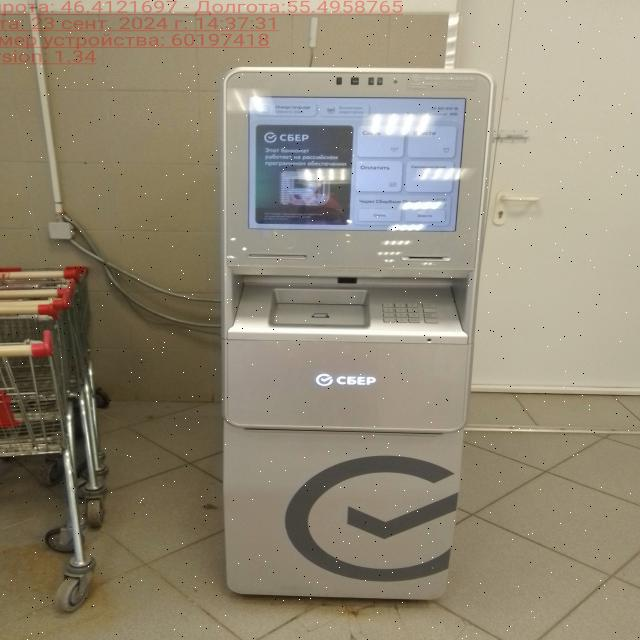bank: (216, 63, 502, 598)
